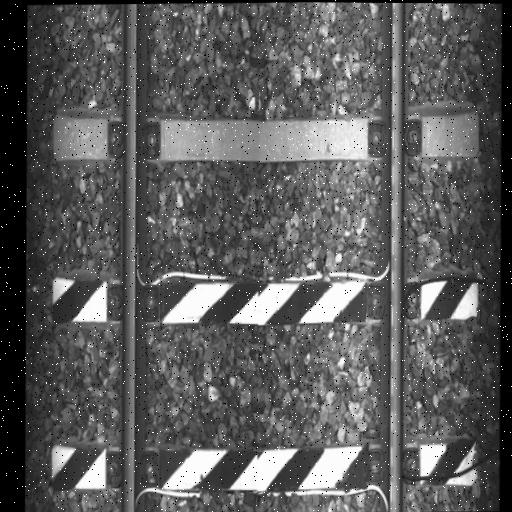sleeper: (48, 255, 481, 329), (49, 95, 482, 166), (48, 427, 480, 496)
